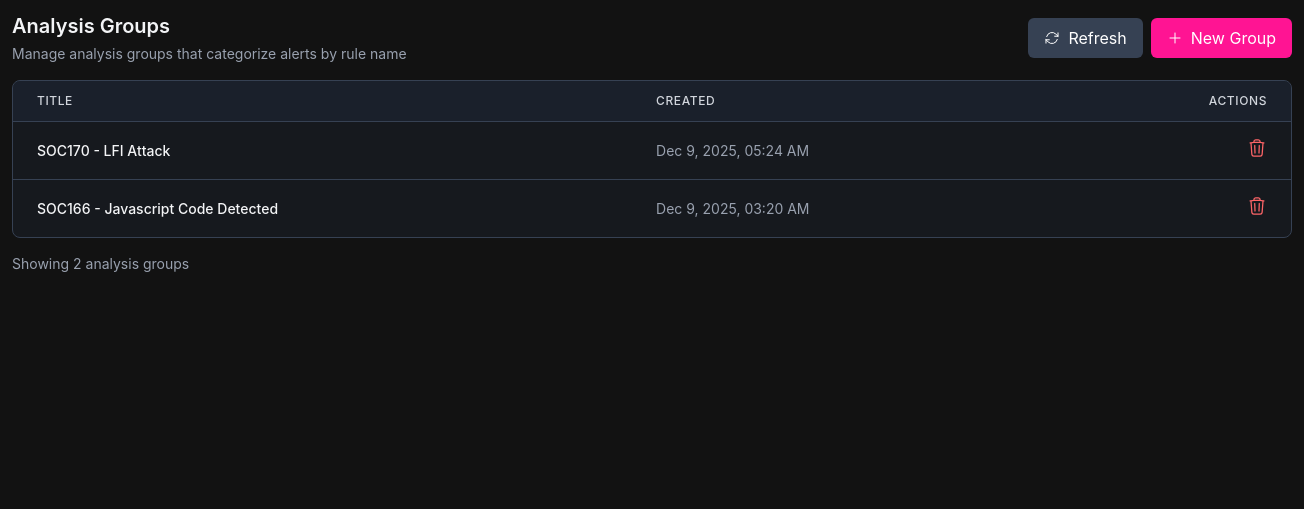
Test: AnalysisGroups › cancels create form
Expected: the text "SOC170 - LFI Attack" is shown, [37,142,170,158]
Open create form
What coordinates should you click on to do the following:
click the button "New Group"
I would click on:
 (1221, 38)
Its box is [1151,18,1292,58].
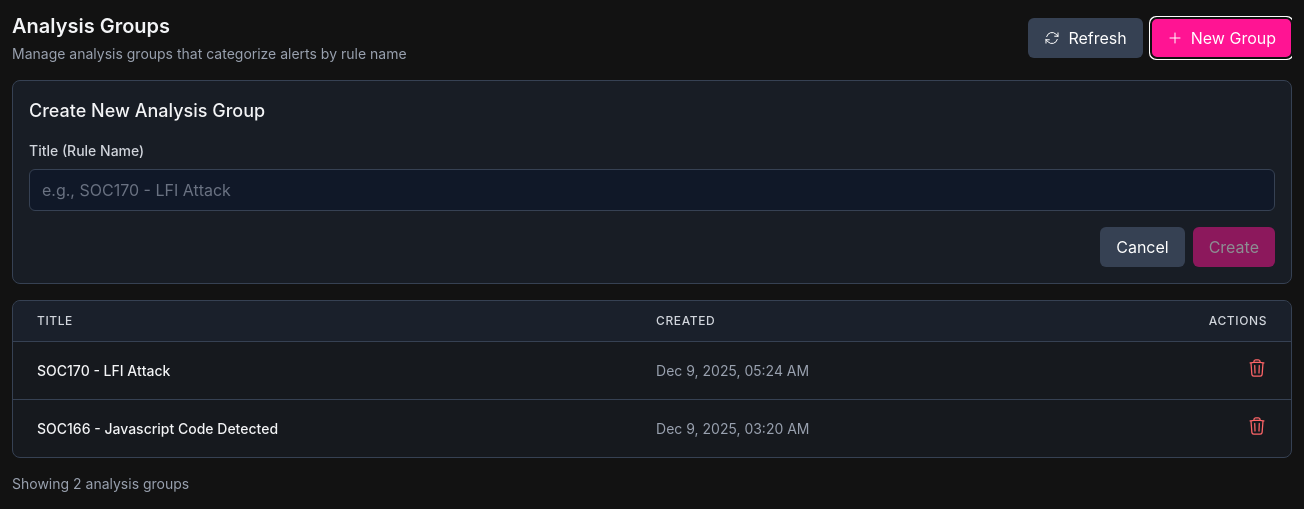
Expected: the heading "Create New Analysis Group" is shown, [29,100,265,121]
Click cancel
What coordinates should you click on to do the following:
click the button "Cancel"
I would click on:
 (1142, 247)
Its box is [1100,227,1185,267].
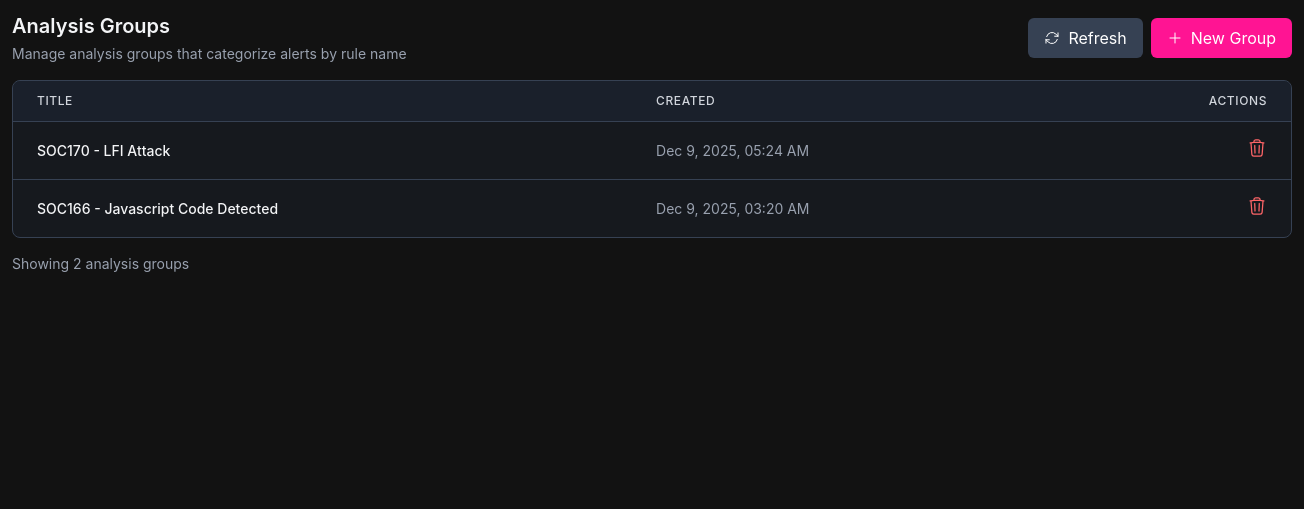
Expected: the heading "Create New Analysis Group" is gone
